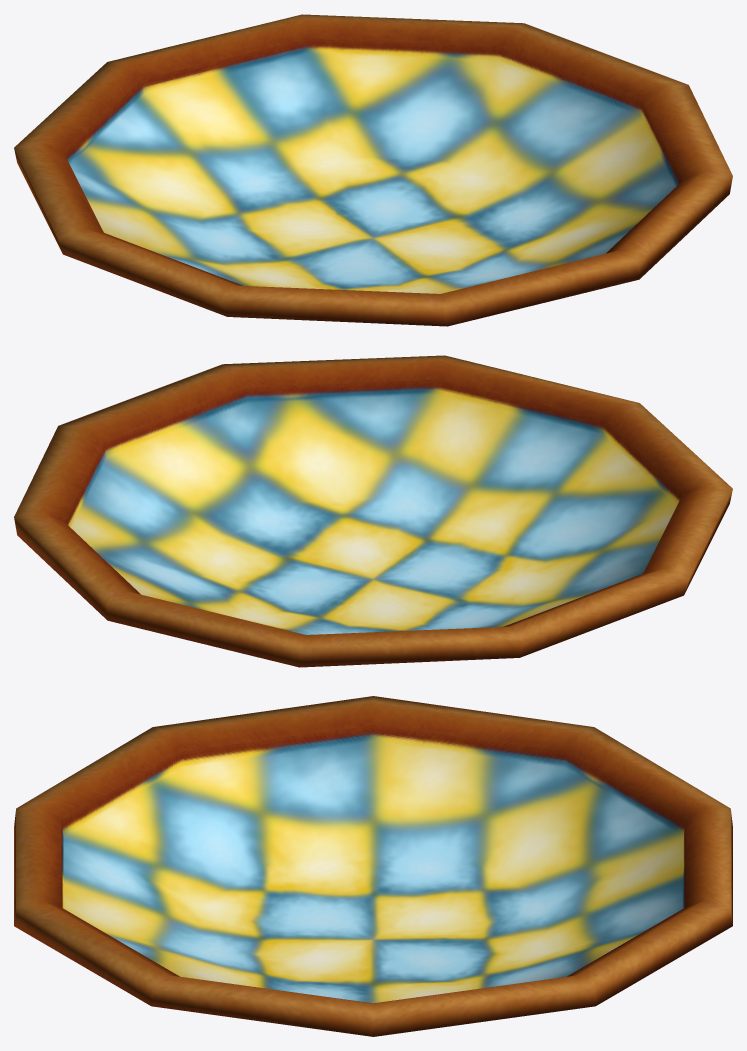
The model's file is Saucer_MAD_HATTER.dae.
The picture shows the model from 3 angles, top to bottom: view 1: azimuth 30°, elevation 25°; view 2: azimuth 150°, elevation 25°; view 3: azimuth 270°, elevation 25°; orthographic projection. The views are drawn at different scales.
Parts seen in each view (by area): view 1: mesh0; view 2: mesh0; view 3: mesh0.
Part boxes in pixels (x1,y1,x2,y2): mesh0: (14, 14, 732, 326); mesh0: (14, 355, 732, 667); mesh0: (14, 696, 732, 1036).
Size of the model in its own units: 0.3021 by 0.047 by 0.2819.
